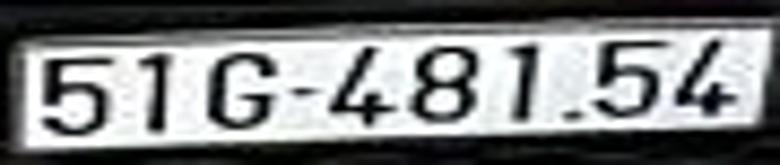-: (286, 84, 318, 96)
.: (562, 104, 585, 125)
1: (135, 54, 174, 138), (504, 41, 537, 120)
4: (672, 39, 740, 119), (325, 47, 393, 125)
5: (39, 55, 114, 138), (591, 38, 668, 118)
8: (411, 43, 481, 124)
G: (201, 49, 276, 130)
